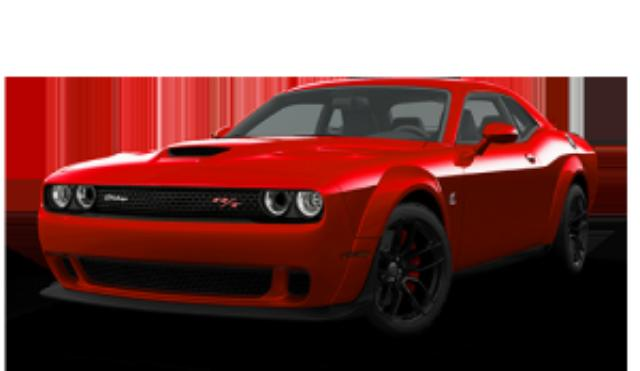dodge: (36, 76, 600, 340)
